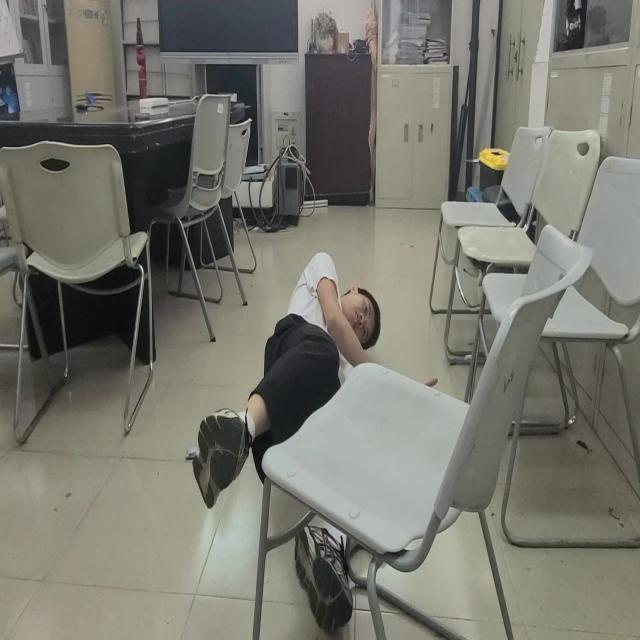fall: (190, 247, 389, 629)
